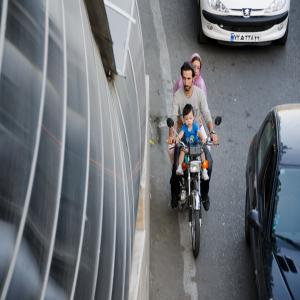Vehicle-registration-plate: (232, 35, 261, 43)
